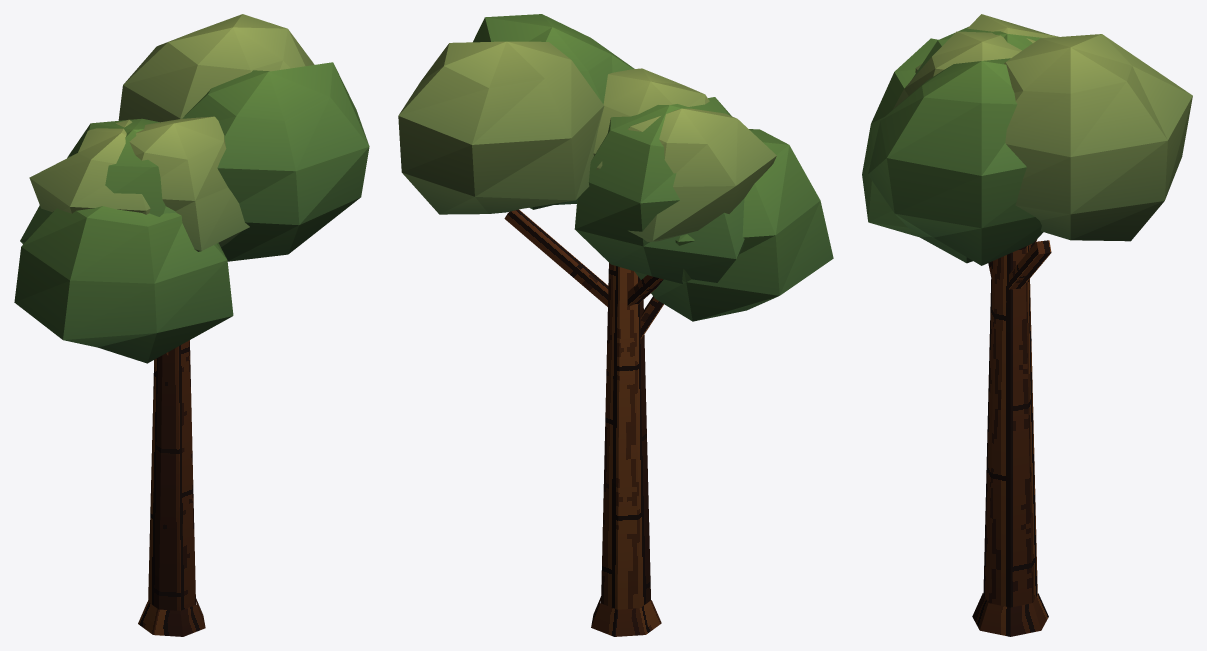
Rendered from birch_3_lowpoly.glb.
3 views of the same model, side by side, from view 1: azimuth 30°, elevation 25°; view 2: azimuth 150°, elevation 25°; view 3: azimuth 270°, elevation 25° (orthographic). The views are drawn at different scales.
Parts seen in each view (by area): view 1: birch_3_lowpoly; view 2: birch_3_lowpoly; view 3: birch_3_lowpoly.
Part boxes in pixels (x1,y1,x2,y2): birch_3_lowpoly: [14, 14, 369, 636]; birch_3_lowpoly: [398, 14, 833, 636]; birch_3_lowpoly: [862, 14, 1192, 636].
Size of the model in its own units: 3.88 by 6.26 by 3.03.
Materials: 2 (1 with a texture image).
